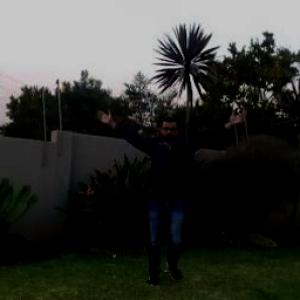takeoff: (93, 109, 267, 288)
